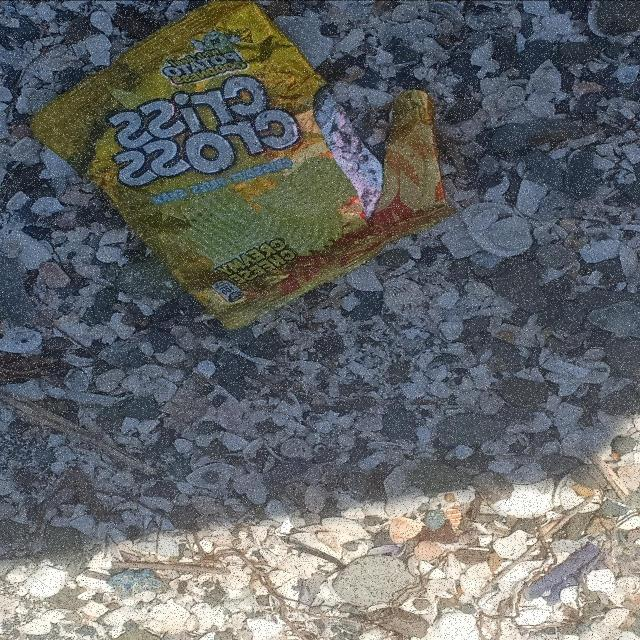plastic_waste: (27, 1, 449, 331)
